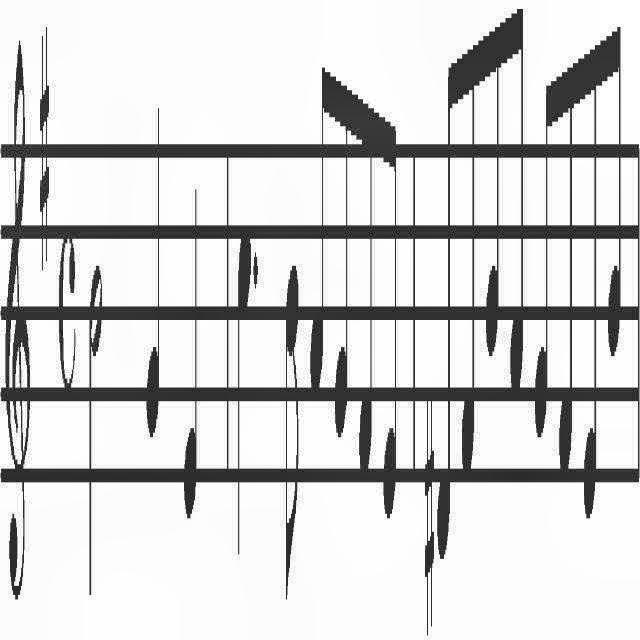Bass-clef: (5, 32, 31, 616)
Diez: (423, 392, 435, 626), (39, 32, 50, 280)
Eighth-note: (436, 48, 452, 572), (460, 11, 476, 510), (584, 32, 600, 530), (534, 71, 554, 456), (357, 80, 375, 488), (382, 88, 398, 528), (558, 56, 574, 488), (509, 0, 525, 398), (284, 258, 302, 602), (334, 64, 350, 448), (606, 5, 622, 371), (484, 9, 500, 372), (310, 38, 326, 398)
Half-note: (88, 258, 104, 612)
Quarter-note: (146, 79, 162, 453), (183, 180, 199, 532), (236, 223, 252, 573)
